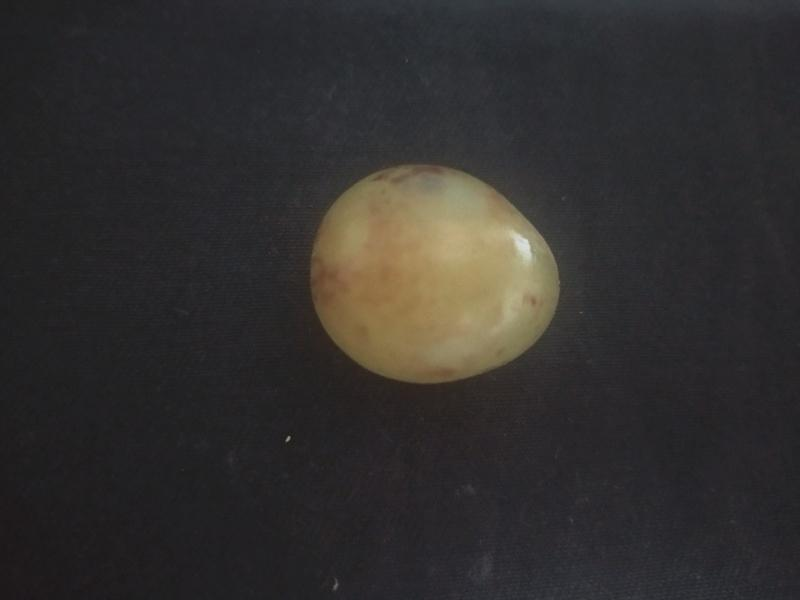Grape Rotten: (305, 160, 564, 389)
